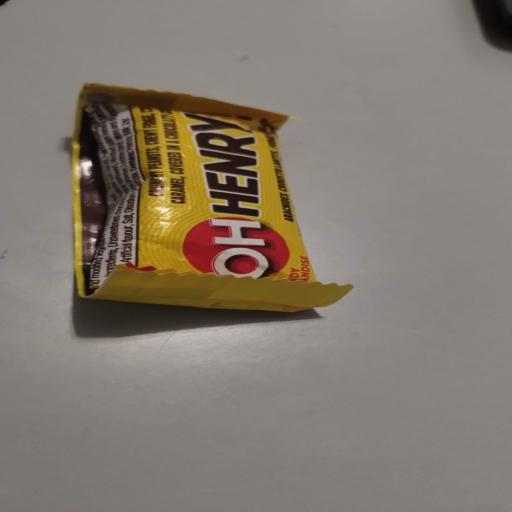chocolate: (73, 85, 351, 311)
